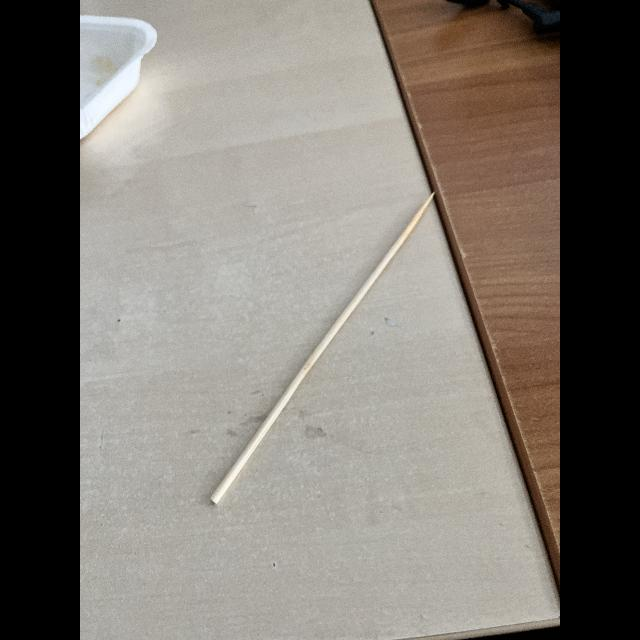stick: (187, 176, 459, 528)
